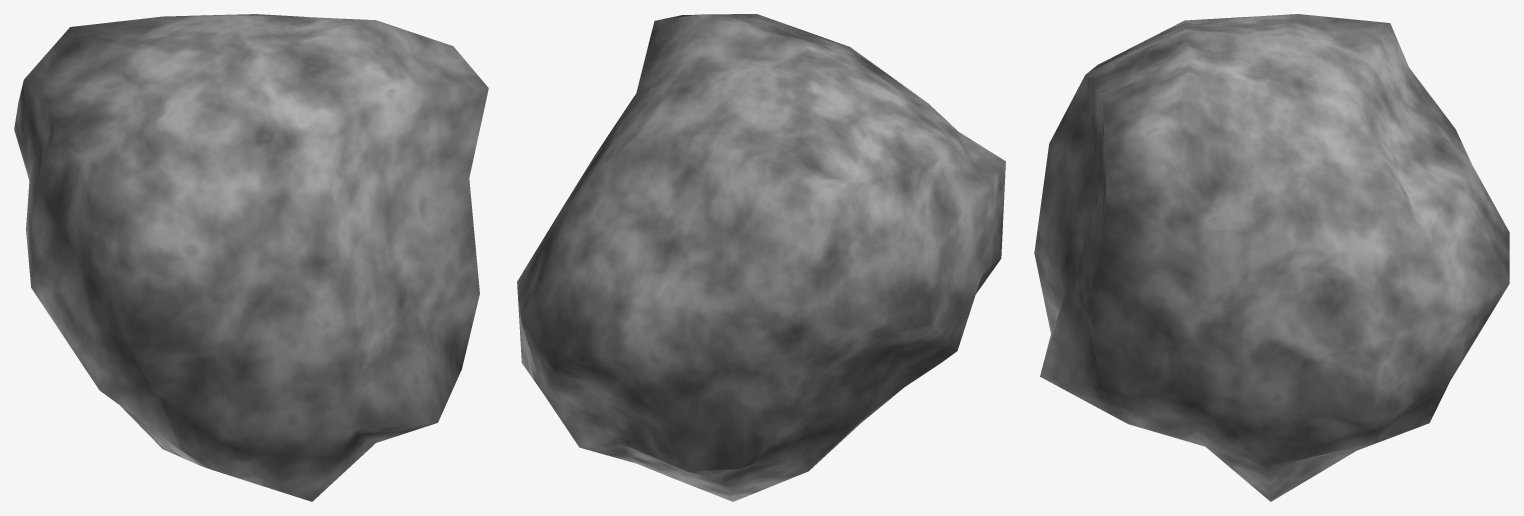
File: rock.dae
3 views of the same model, side by side, from view 1: azimuth 30°, elevation 25°; view 2: azimuth 150°, elevation 25°; view 3: azimuth 270°, elevation 25° (orthographic). The views are drawn at different scales.
Parts seen in each view (by area): view 1: Cube; view 2: Cube; view 3: Cube.
Boxes of the visible parts, x1,y1,x2,y2 form: Cube: [14, 14, 488, 501]; Cube: [517, 14, 1005, 501]; Cube: [1034, 14, 1509, 501].
Bounding box in the file's own units: 1.01 × 1.13 × 1.14.
1 material, 1 textured.
